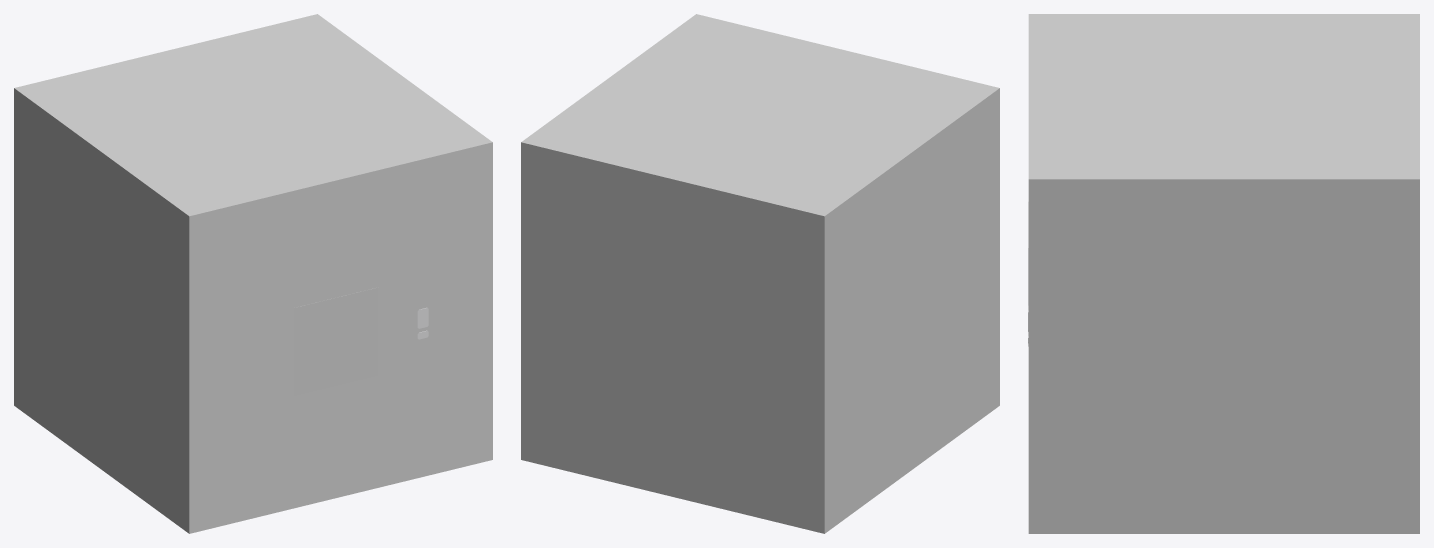
Rendered from IPARE.fbx.
The picture shows the model from 3 angles, left to right: view 1: azimuth 30°, elevation 25°; view 2: azimuth 150°, elevation 25°; view 3: azimuth 270°, elevation 25°; orthographic projection. The views are drawn at different scales.
Parts seen in each view (by area): view 1: Interior box, Cube.001; view 2: Interior box; view 3: Interior box.
Boxes of the visible parts, x1,y1,x2,y2 form: Interior box: (14, 14, 492, 533); Cube.001: (294, 287, 378, 396); Interior box: (521, 14, 999, 533); Interior box: (1028, 14, 1419, 533).
Bounding box in the file's own units: 300 × 300 × 301.
